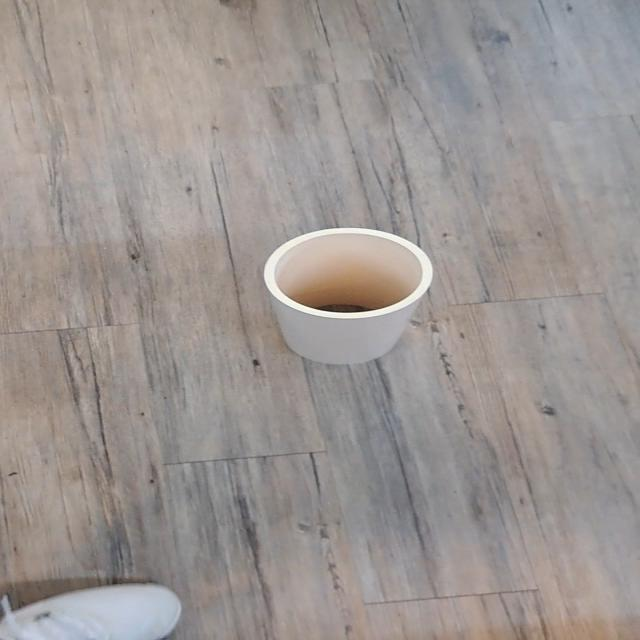CORAL: (241, 210, 459, 387)
